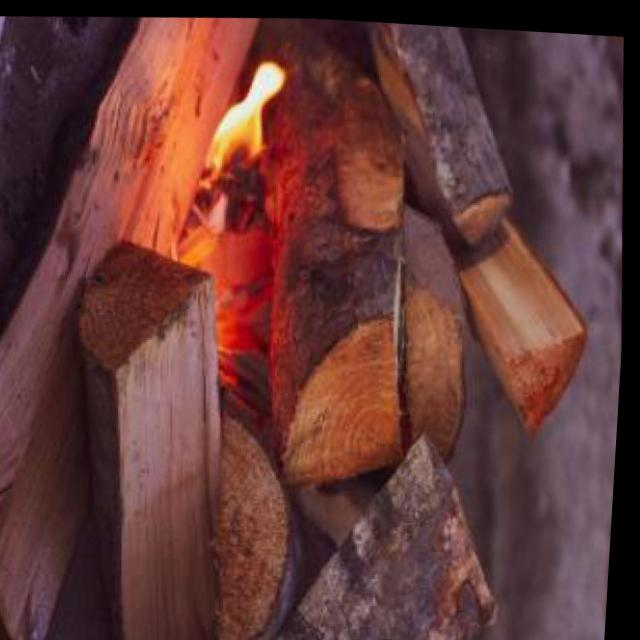Fire: (180, 17, 318, 227)
